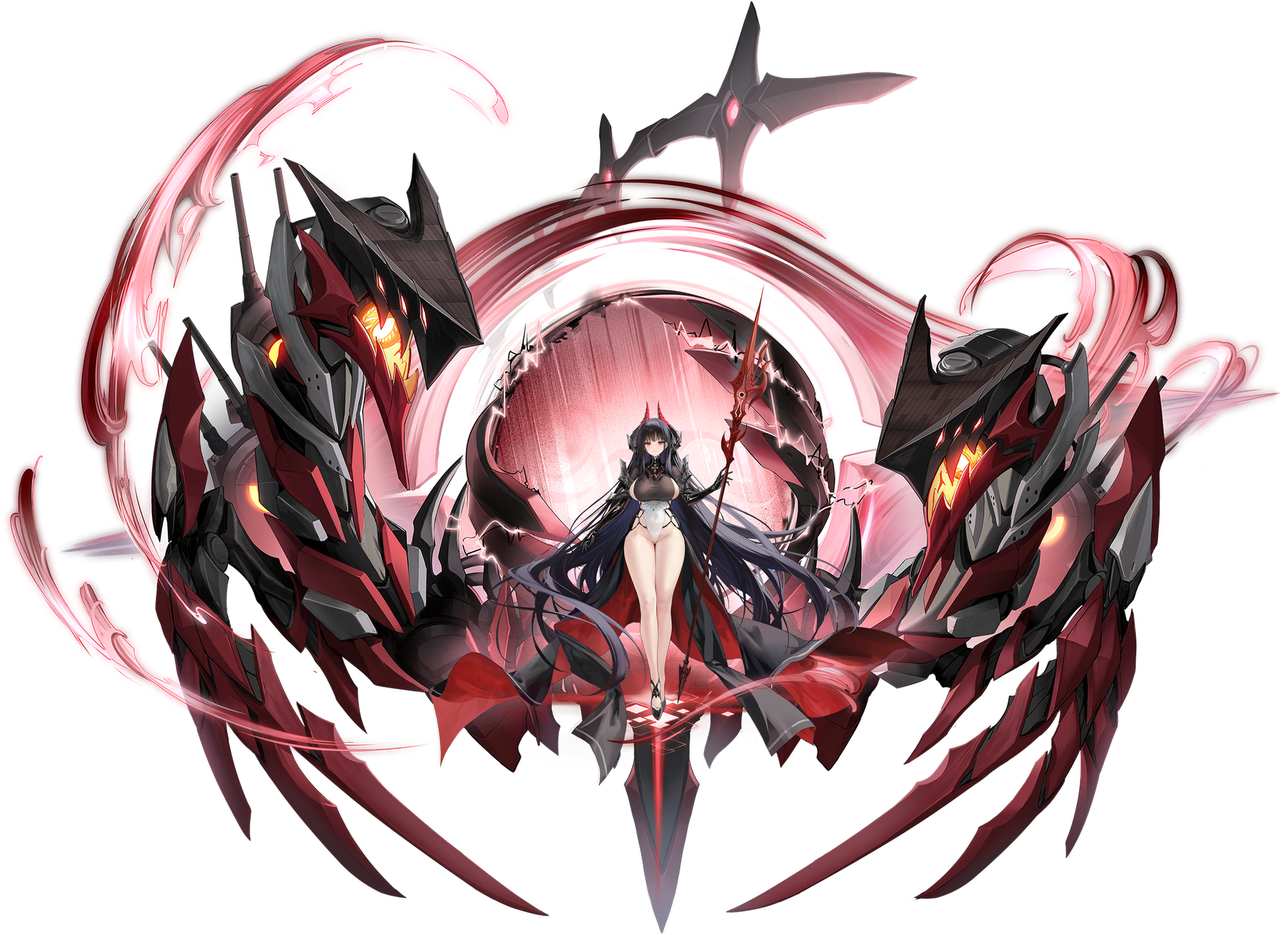person: (535, 382, 759, 795)
